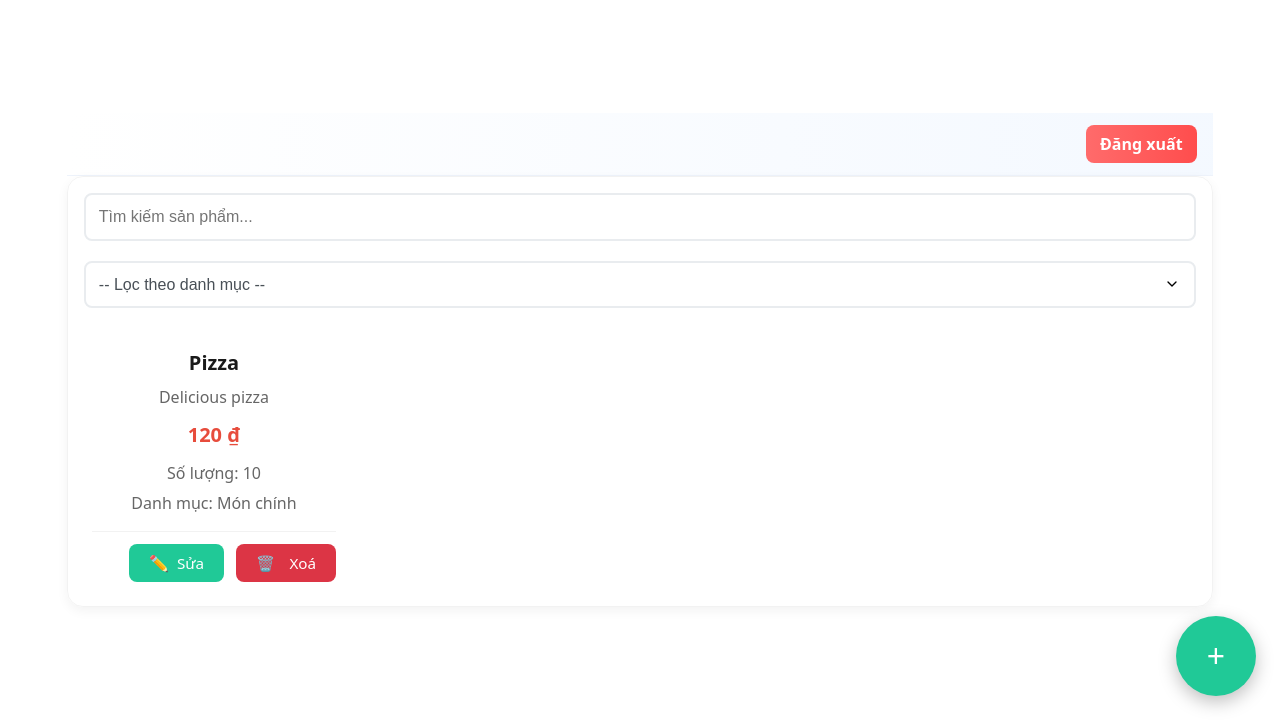
Test: Product E2E Tests › Sửa sản phẩm thành công
The image size is (1280, 720).
Expected: the heading "Pizza" is shown, x1=189 y1=348 x2=239 y2=376
Click the button with class "edit-btn" at (177, 563), box x1=129 y1=544 x2=224 y2=582
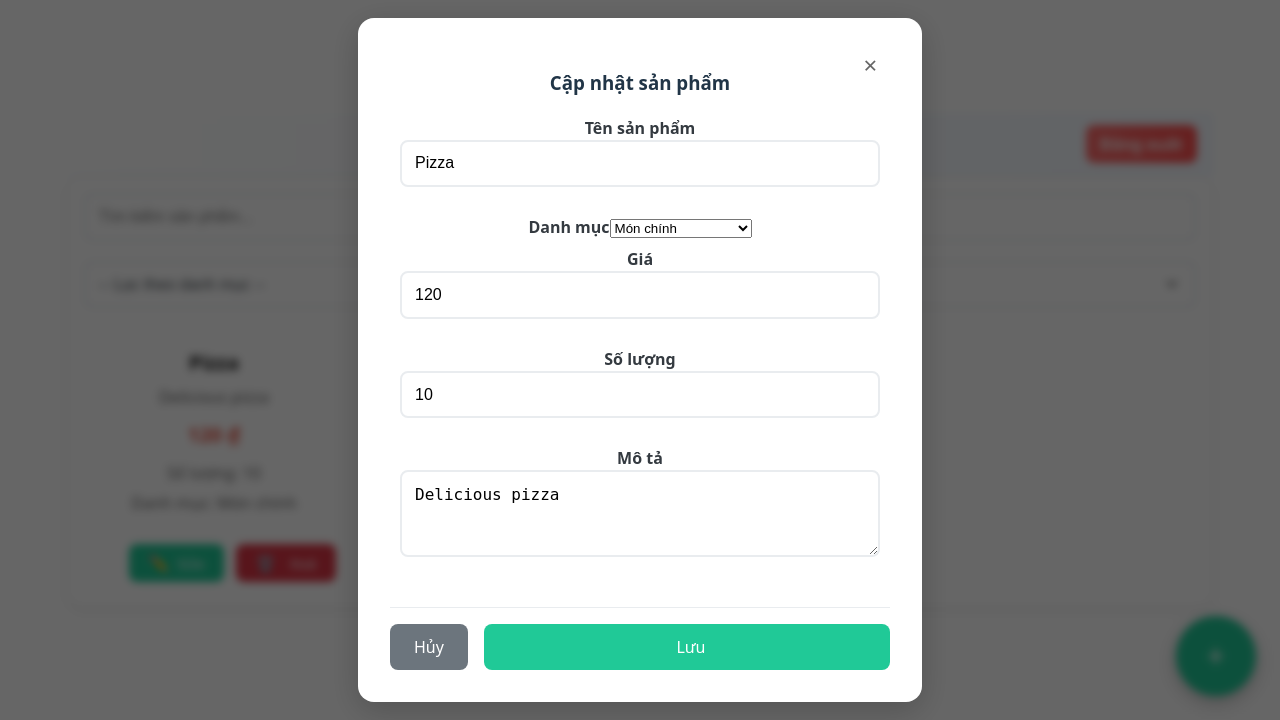
Expected: the element with test id "product-modal" is shown
Replace the text in the number field with test id "modal-price" with "150" at (640, 295), box x1=400 y1=271 x2=880 y2=319
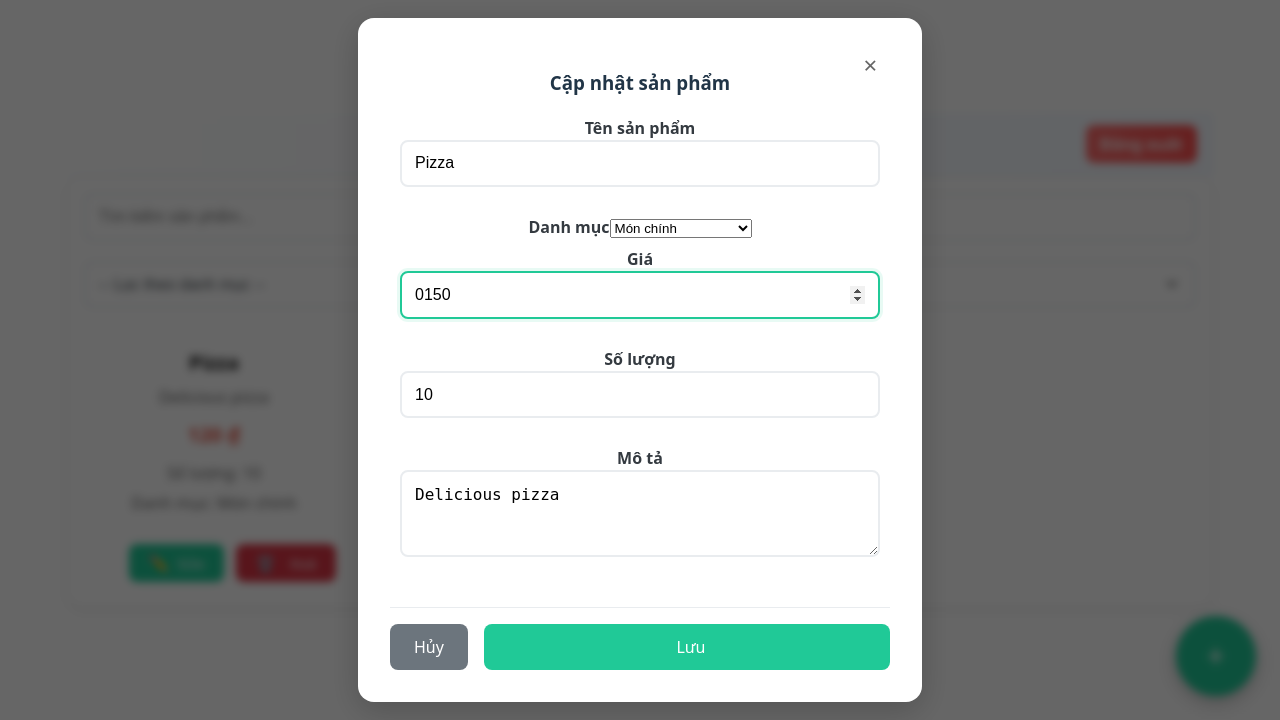
Replace the text in the number field with test id "modal-quantity" with "15" at (640, 395), box x1=400 y1=371 x2=880 y2=419
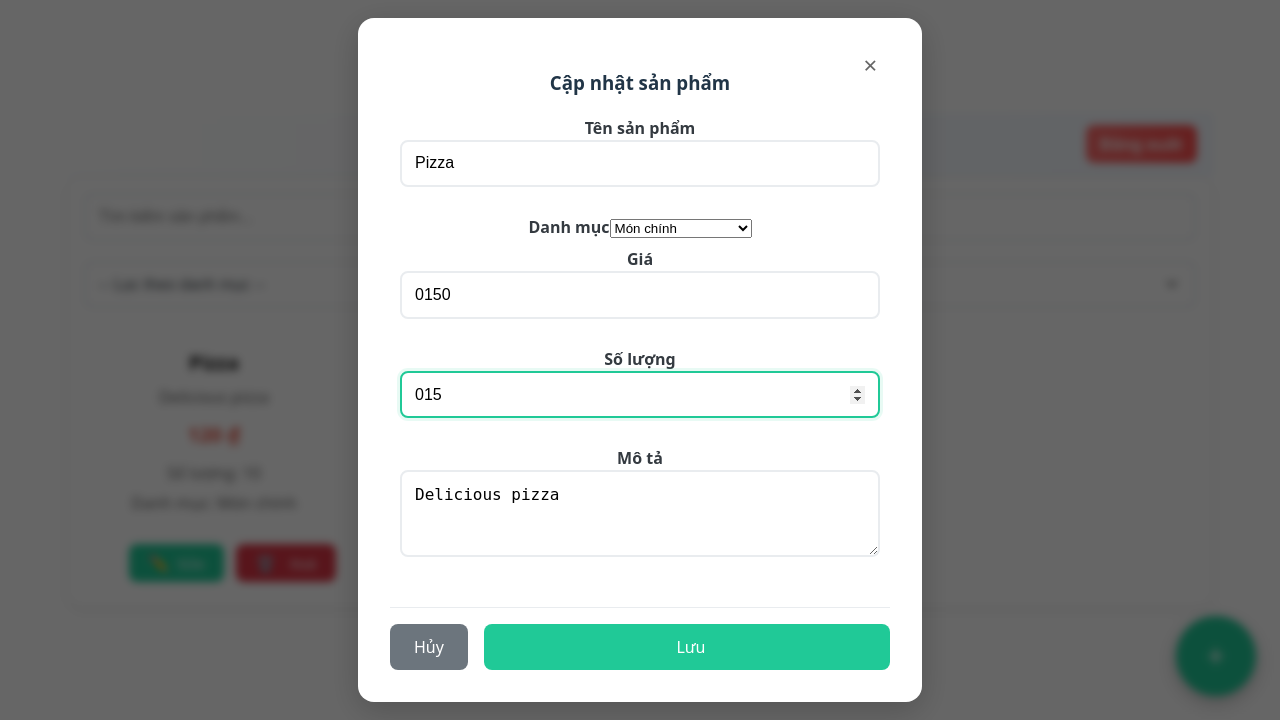
Click the button with test id "modal-save" at (687, 647), box x1=484 y1=624 x2=890 y2=670
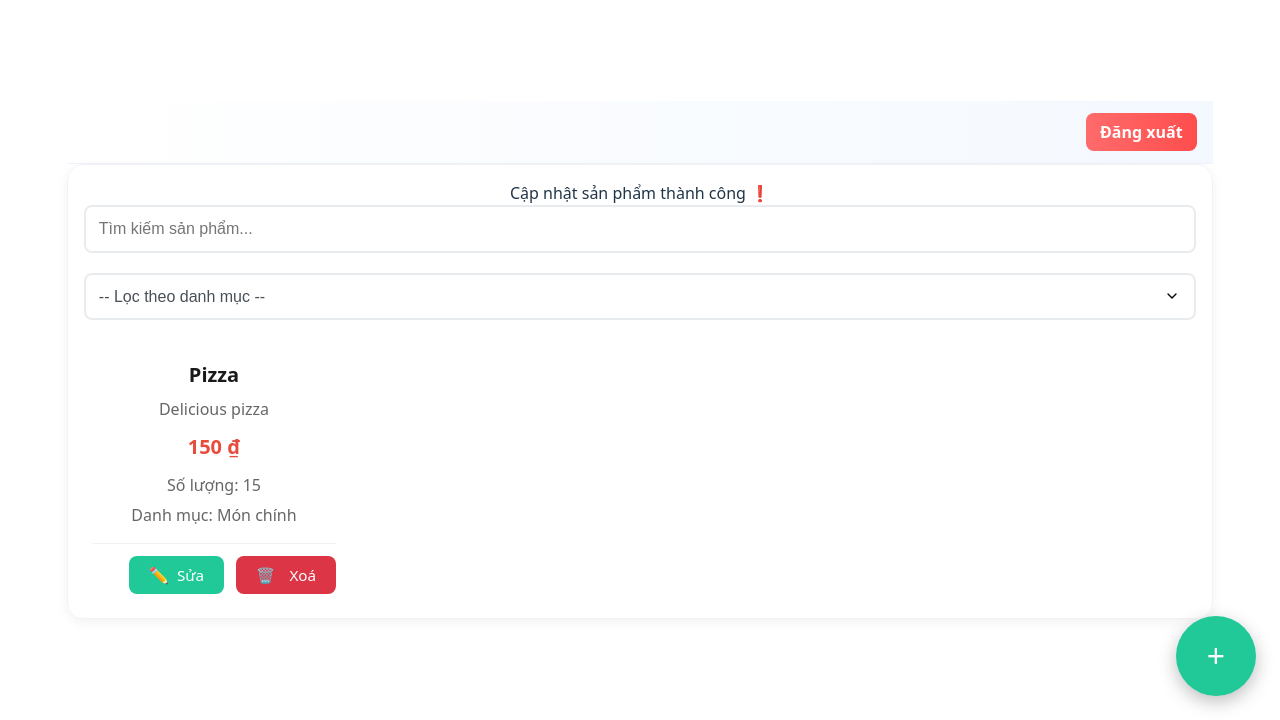
Expected: the text with test id ".success-message, [data-cy=\"success-message\"]" reads "Cập nhật sản phẩm thành công ❗", x1=510 y1=182 x2=770 y2=204
Expected: the text "15" is shown, x1=188 y1=433 x2=222 y2=460
